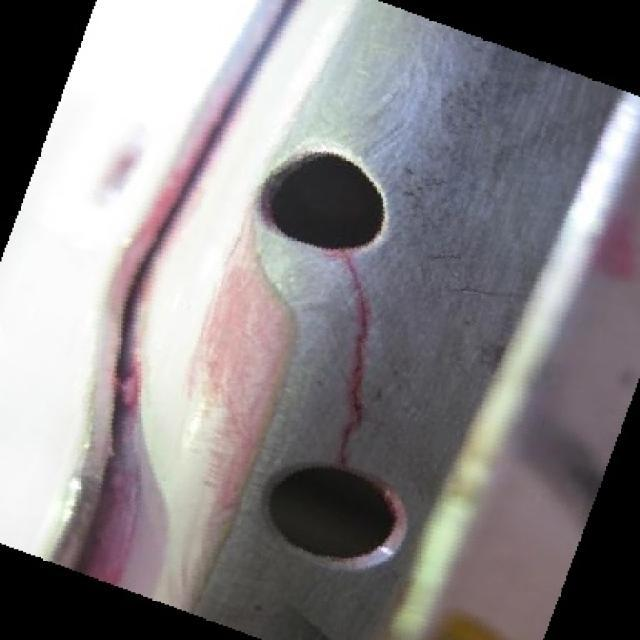crack: (344, 373, 369, 461), (348, 252, 366, 301), (358, 303, 369, 371)
